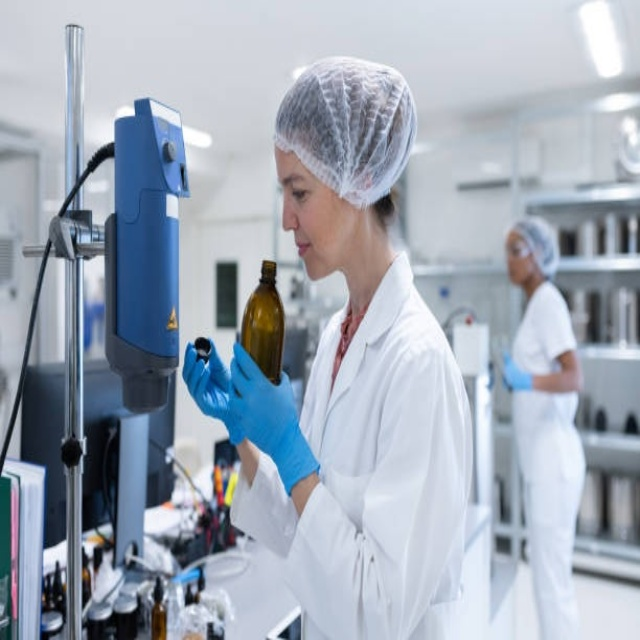Gafas: (506, 241, 530, 259)
Guantes: (215, 339, 321, 496), (181, 340, 234, 435), (501, 351, 534, 392)
Sin_gafas: (277, 168, 317, 207)
Sin_mascara: (290, 226, 329, 281)
